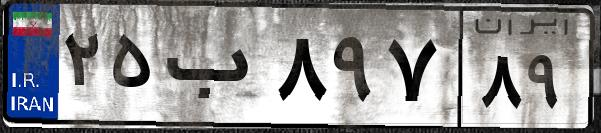2: (57, 26, 110, 100)
5: (110, 28, 158, 98)
7: (385, 28, 445, 110)
8: (270, 28, 330, 110), (475, 38, 525, 113)
9: (330, 28, 385, 110), (525, 38, 570, 115)
ب: (158, 20, 270, 120)
